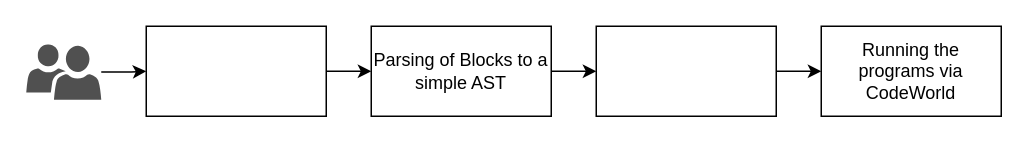
This 1028x143 diagram has some shape labels left out. Each missing label, with the centre of its shape:
Blockly UI: (x=235, y=70)
Code generation and formatting: (x=685, y=70)
